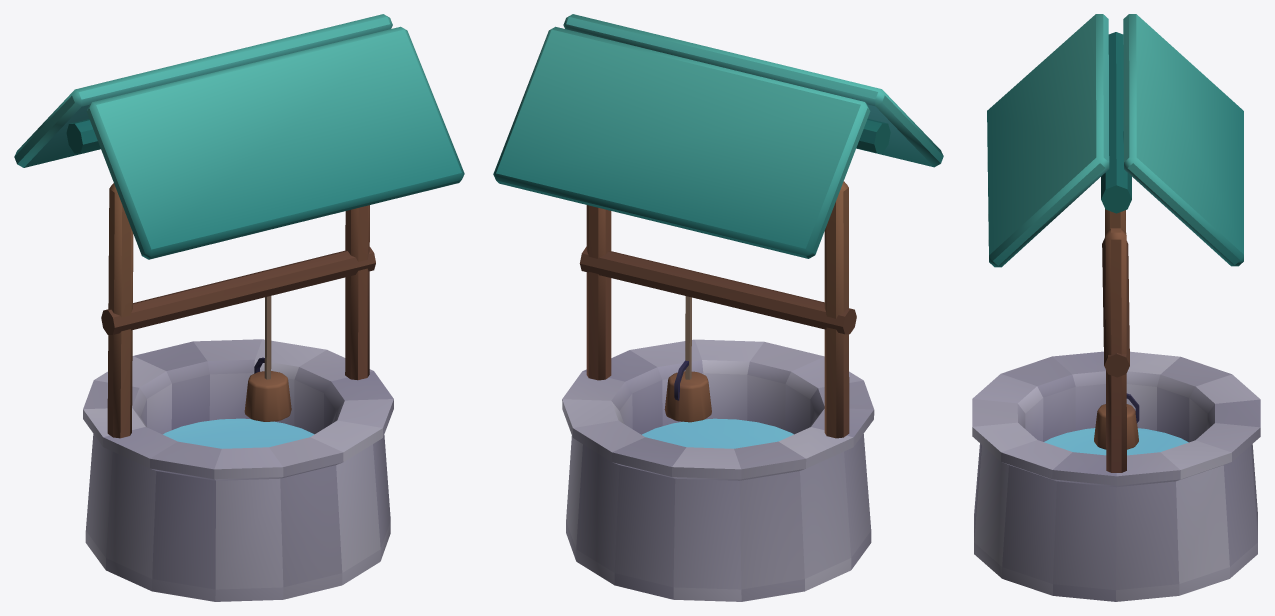
File: common_town_well.glb
3 views of the same model, side by side, from view 1: azimuth 30°, elevation 25°; view 2: azimuth 150°, elevation 25°; view 3: azimuth 270°, elevation 25° (orthographic). The views are drawn at different scales.
Visible parts, largest first — view 1: common_town_well; view 2: common_town_well; view 3: common_town_well.
Part boxes in pixels (x1,y1,x2,y2): common_town_well: (14,14,464,601); common_town_well: (493,14,943,601); common_town_well: (972,14,1260,601).
Bounding box in the file's own units: 2.8 × 3.86 × 2.22.
